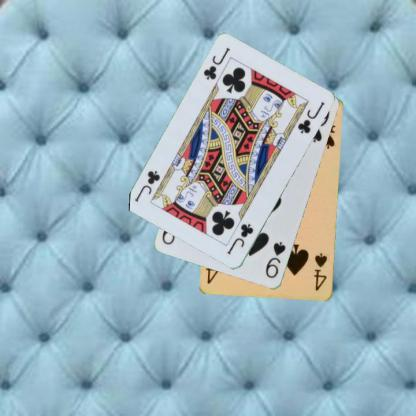4s: (311, 251, 329, 292)
9s: (263, 239, 287, 280)
Jc: (201, 44, 232, 82), (224, 221, 255, 256)
